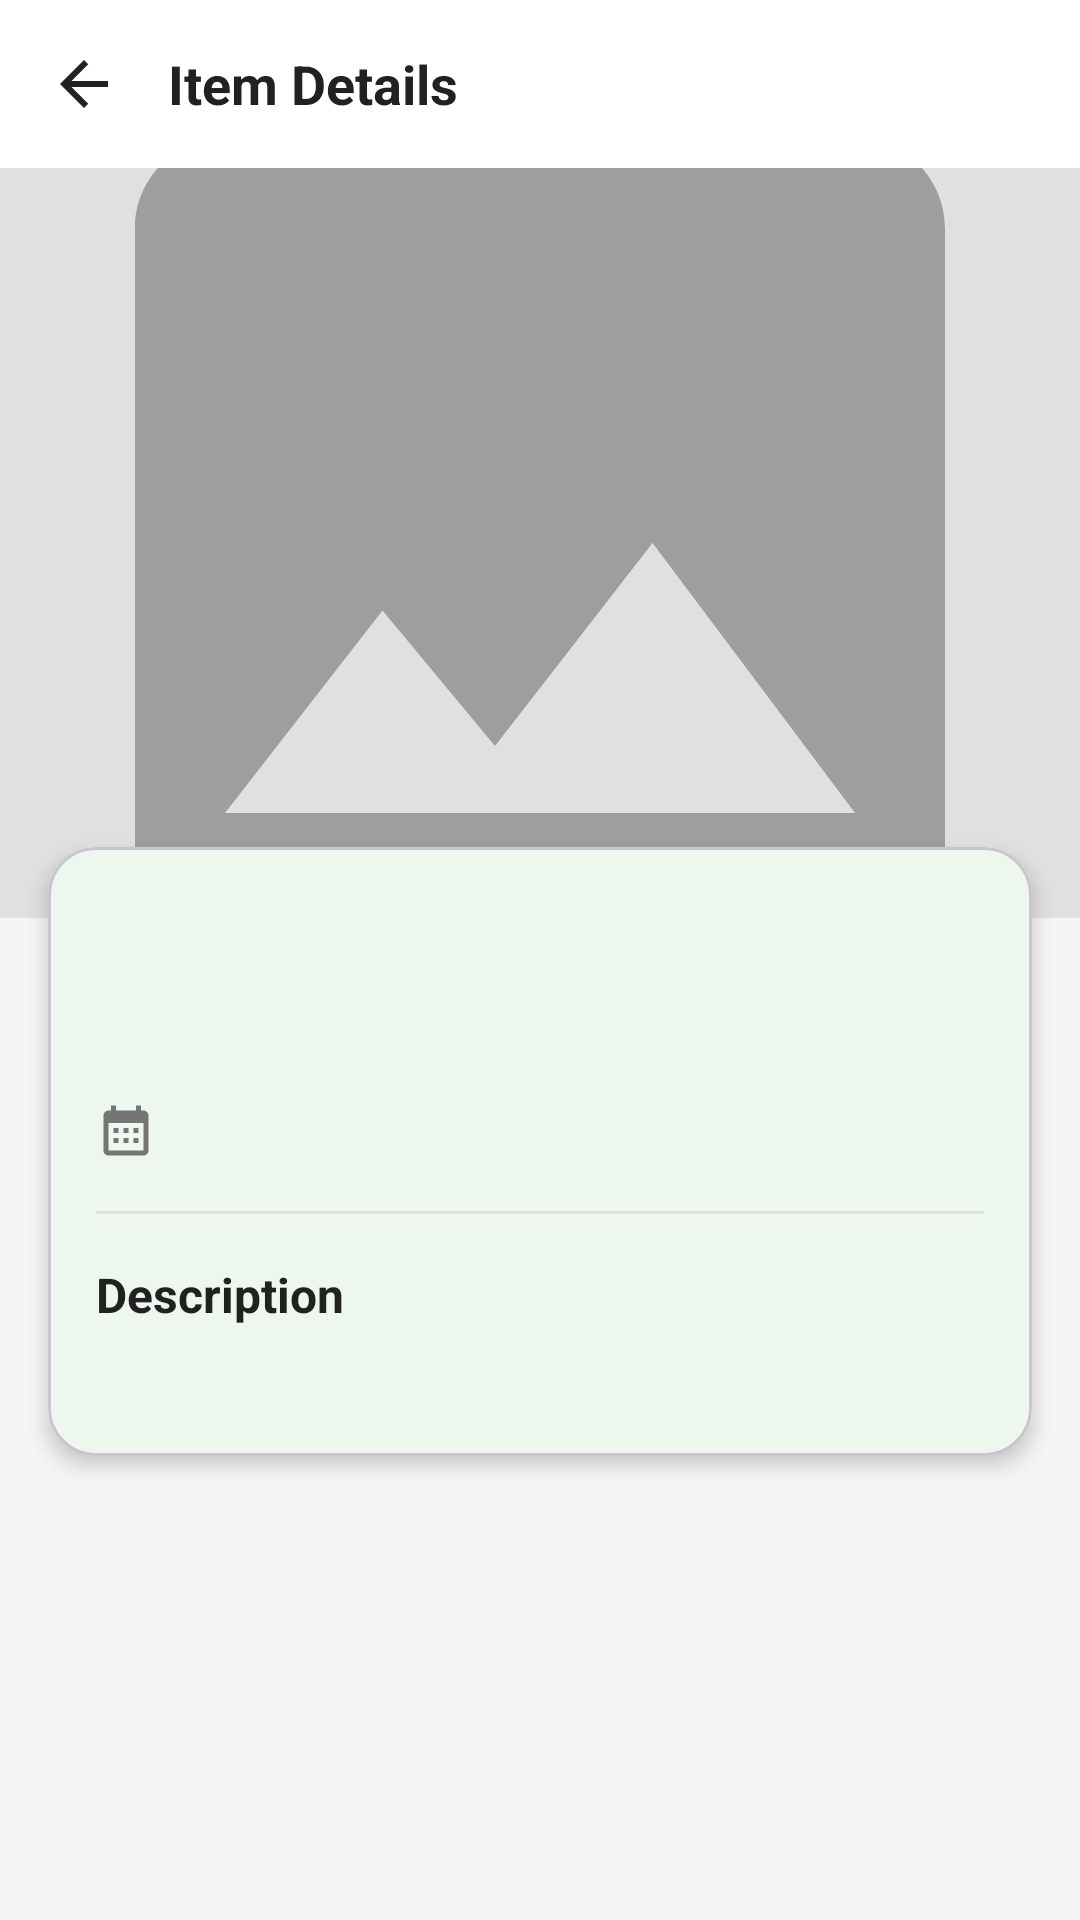

Locate icon controls on the screen. Image size 1080w x 1920h, boxes as rect(x1, y1, x2, y2).
Back: rect(60, 60, 108, 108)
calendar: rect(103, 1105, 149, 1156)
